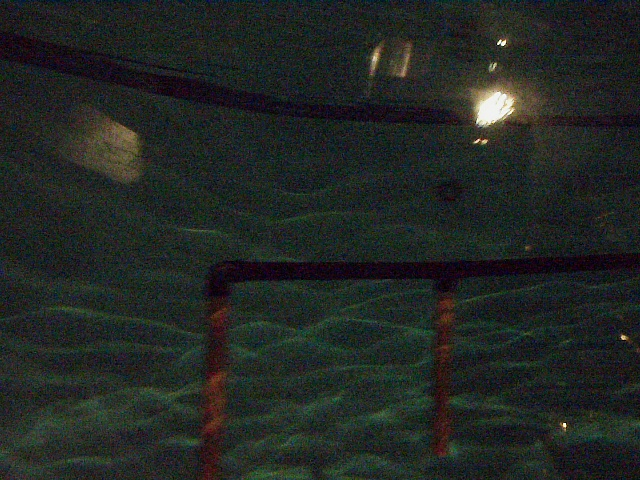Gate: (199, 290, 237, 480), (427, 279, 462, 459)
